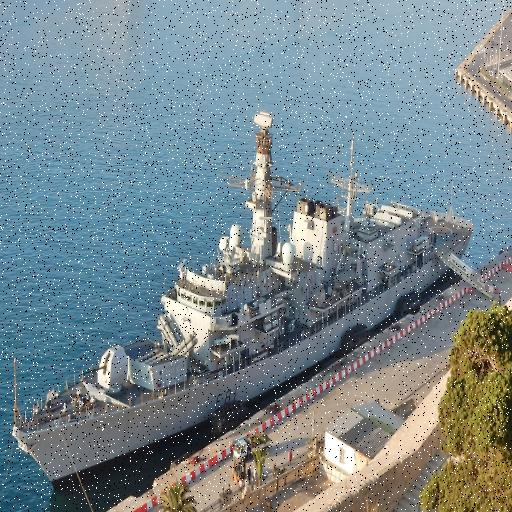Fragata: (6, 107, 482, 502)
